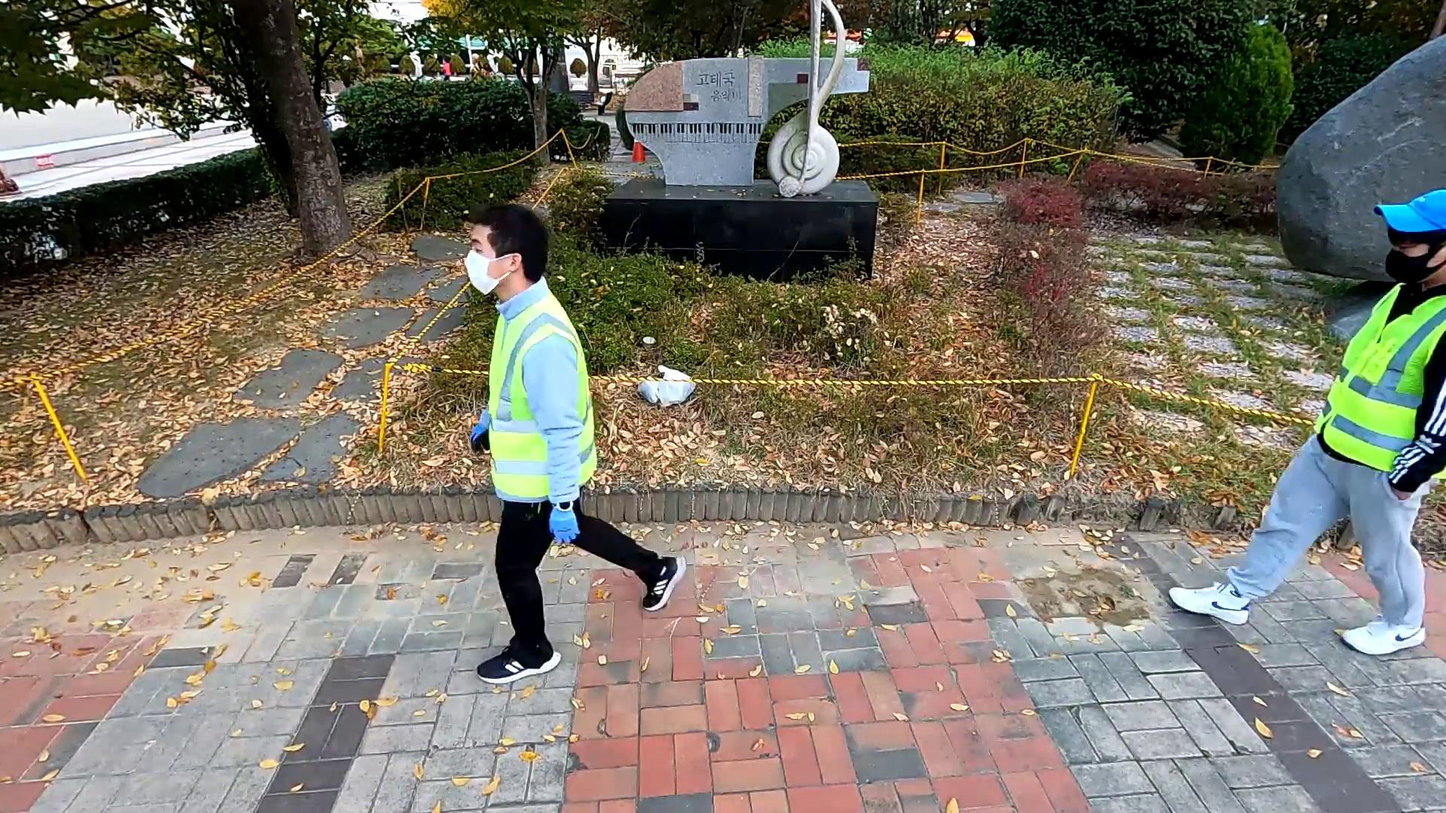person: (1156, 184, 1446, 655), (442, 195, 686, 678)
trash: (642, 360, 696, 405)
